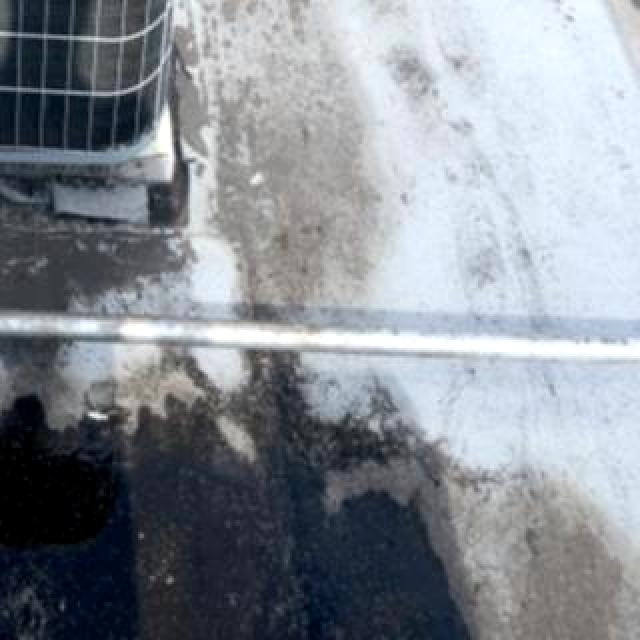SPLIT-SYSTEM: (0, 0, 232, 226)
